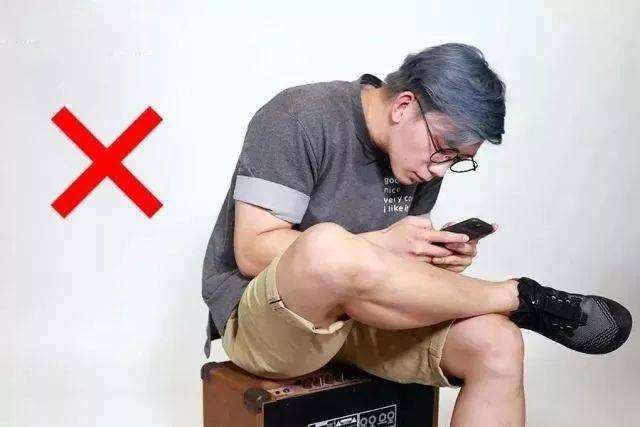reading: (381, 211, 501, 275)
